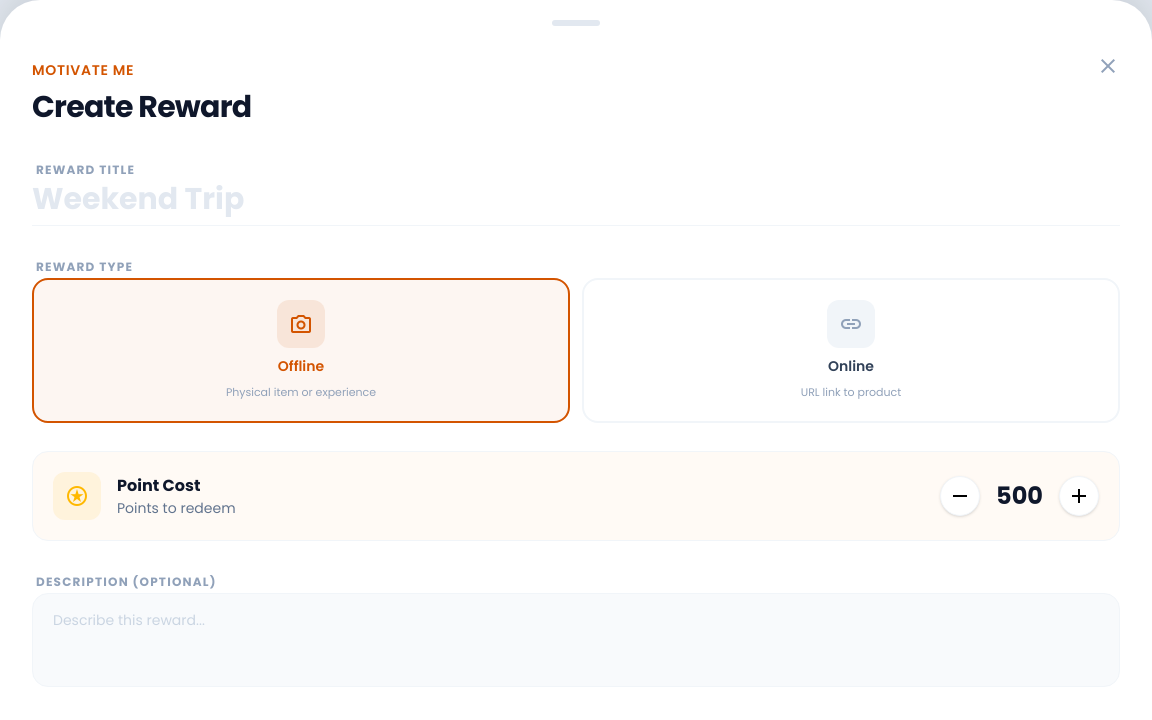
Test: CreateReward › increments cost
Click the button named "Increase cost" at point(1079, 496), box [1059,476,1099,516]
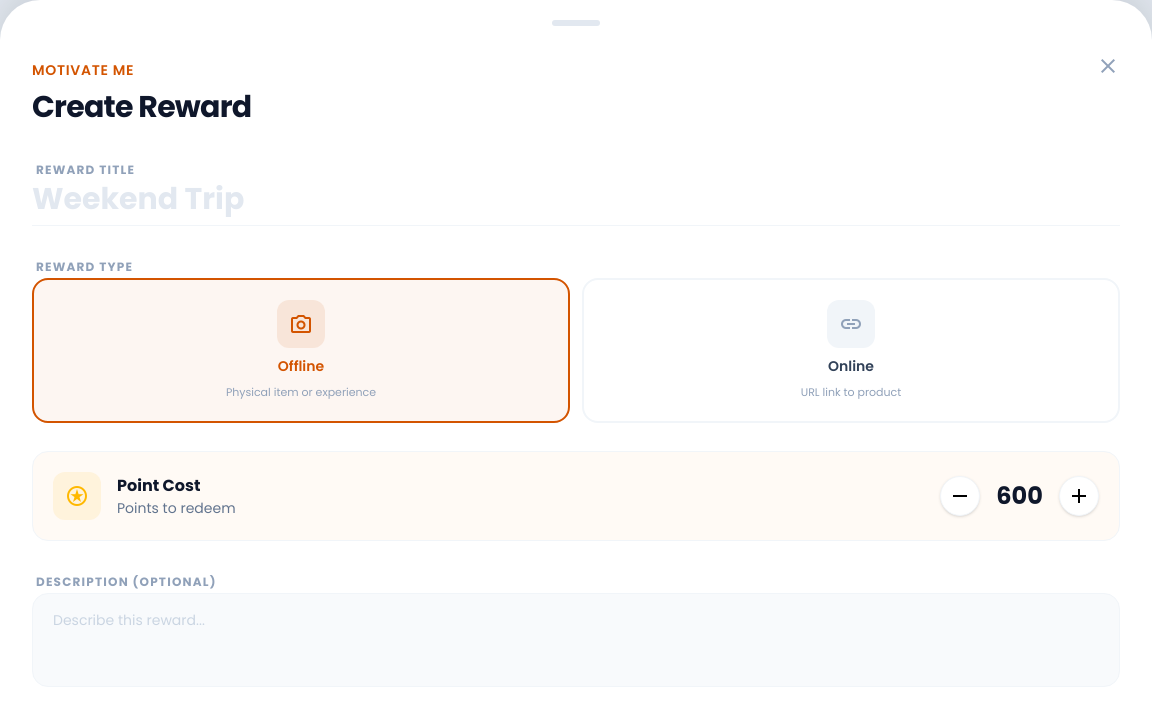
Expected: the text named "600 points" is shown, [996,480,1043,512]
